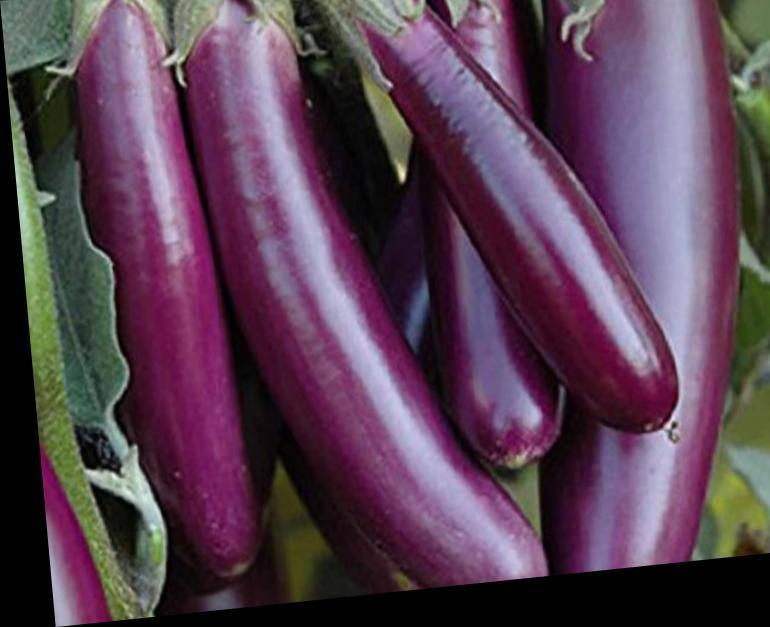eggplant: (67, 0, 738, 579)
